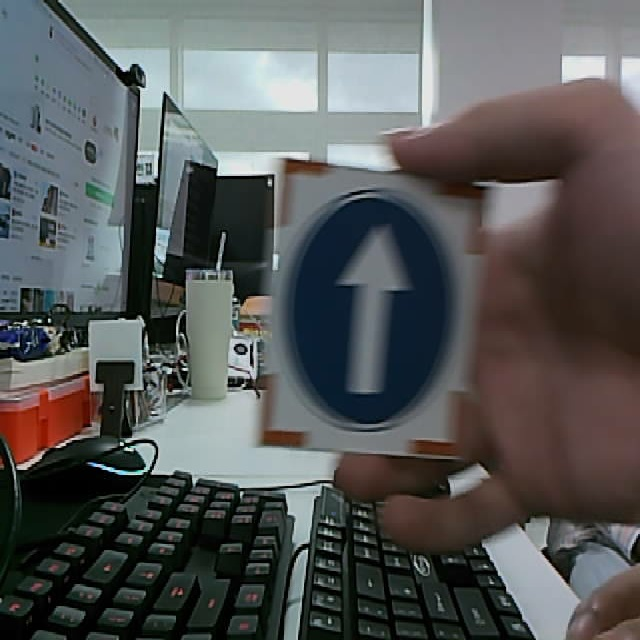straight: (257, 157, 492, 461)
